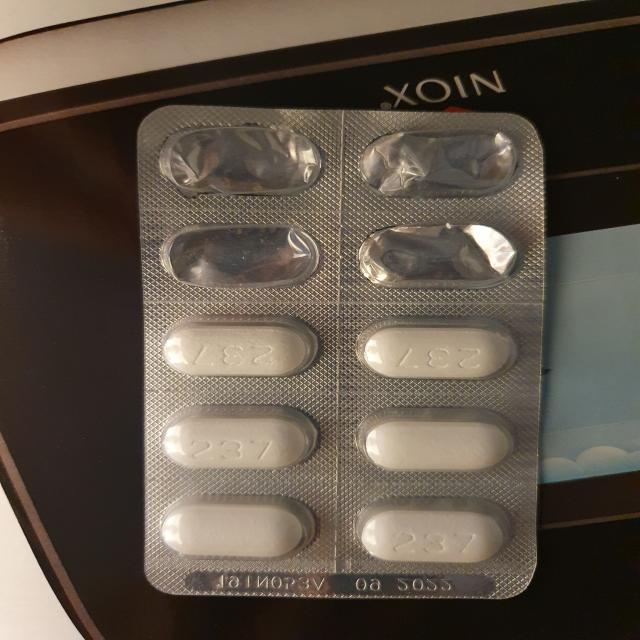Empty: (345, 216, 533, 290), (354, 126, 534, 202), (152, 218, 328, 294), (148, 122, 328, 194)
Pill: (146, 313, 337, 387), (155, 402, 330, 479), (349, 408, 525, 481), (350, 317, 534, 386), (152, 494, 318, 568), (352, 500, 516, 571)
